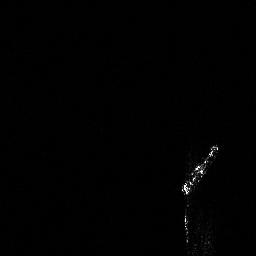ship: (176, 141, 224, 200)
